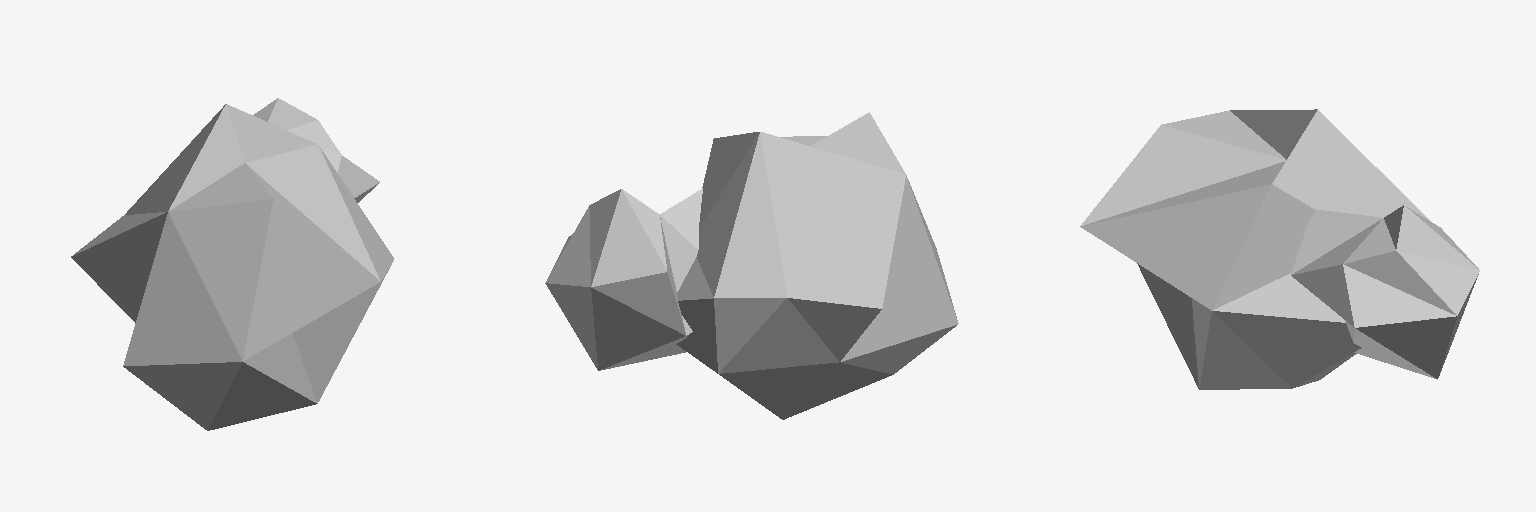
The model's file is rock3.obj.
3 renders of one model, left to right at view 1: azimuth 30°, elevation 25°; view 2: azimuth 150°, elevation 25°; view 3: azimuth 270°, elevation 25°, orthographic.
Parts seen in each view (by area): view 1: Icosphere.007_Icosphere.017; view 2: Icosphere.007_Icosphere.017; view 3: Icosphere.007_Icosphere.017.
Boxes of the visible parts, box(x1,y1,x2,y2) form: Icosphere.007_Icosphere.017: box(71, 98, 393, 430); Icosphere.007_Icosphere.017: box(545, 112, 958, 419); Icosphere.007_Icosphere.017: box(1080, 109, 1479, 389).
Size of the model in its own units: 1.34 by 1.11 by 1.43.